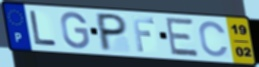C: (198, 20, 231, 59)
E: (164, 16, 201, 58)
F: (129, 15, 156, 53)
G: (59, 11, 91, 50)
L: (27, 9, 59, 47)
P: (96, 11, 128, 52)
